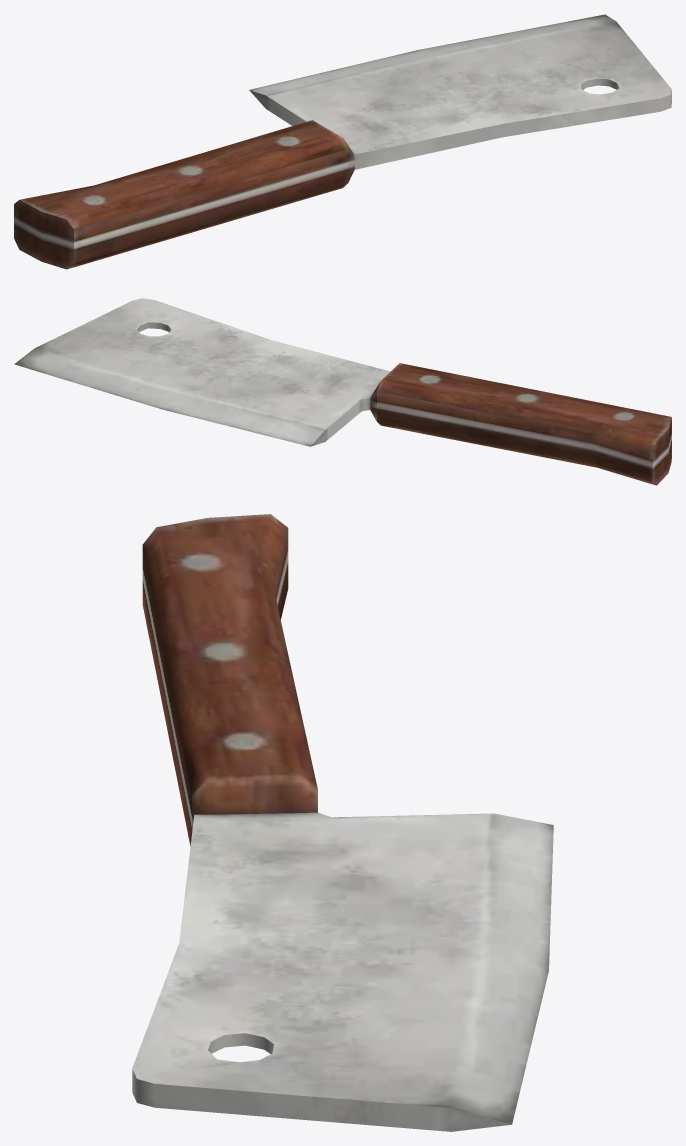
Rendered from obj_meat_cleaver.glb.
The picture shows the model from 3 angles, top to bottom: view 1: azimuth 30°, elevation 25°; view 2: azimuth 150°, elevation 25°; view 3: azimuth 270°, elevation 25°; orthographic projection. The views are drawn at different scales.
Visible parts, largest first — view 1: MeatCleaver_LP_01 - Default_0; view 2: MeatCleaver_LP_01 - Default_0; view 3: MeatCleaver_LP_01 - Default_0.
Part boxes in pixels (bbox=[...]): MeatCleaver_LP_01 - Default_0: bbox=[14, 14, 671, 269]; MeatCleaver_LP_01 - Default_0: bbox=[14, 298, 671, 485]; MeatCleaver_LP_01 - Default_0: bbox=[132, 514, 553, 1131].
Bounding box in the file's own units: 0.3 × 0.0219 × 0.094.
Materials: 1 (1 with a texture image).
